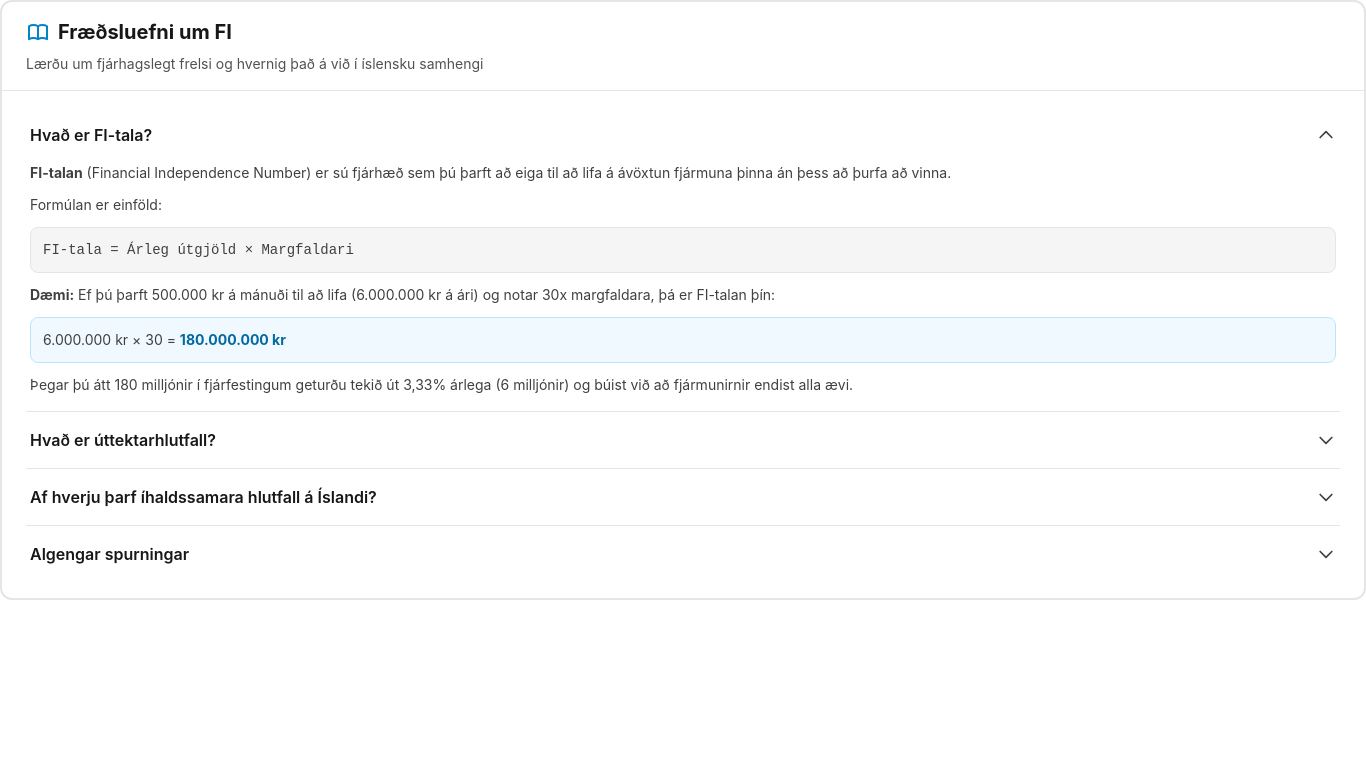
EducationalPanel › Collapsible Sections › collapses expanded section when clicked again
This screenshot has width=1366, height=768.
Check: the text "Financial Independence Number" is shown, box [83, 164, 951, 181]
// Click to collapse
Click the button "Hvað er FI-tala?" at (91, 135), box [26, 107, 1340, 163]
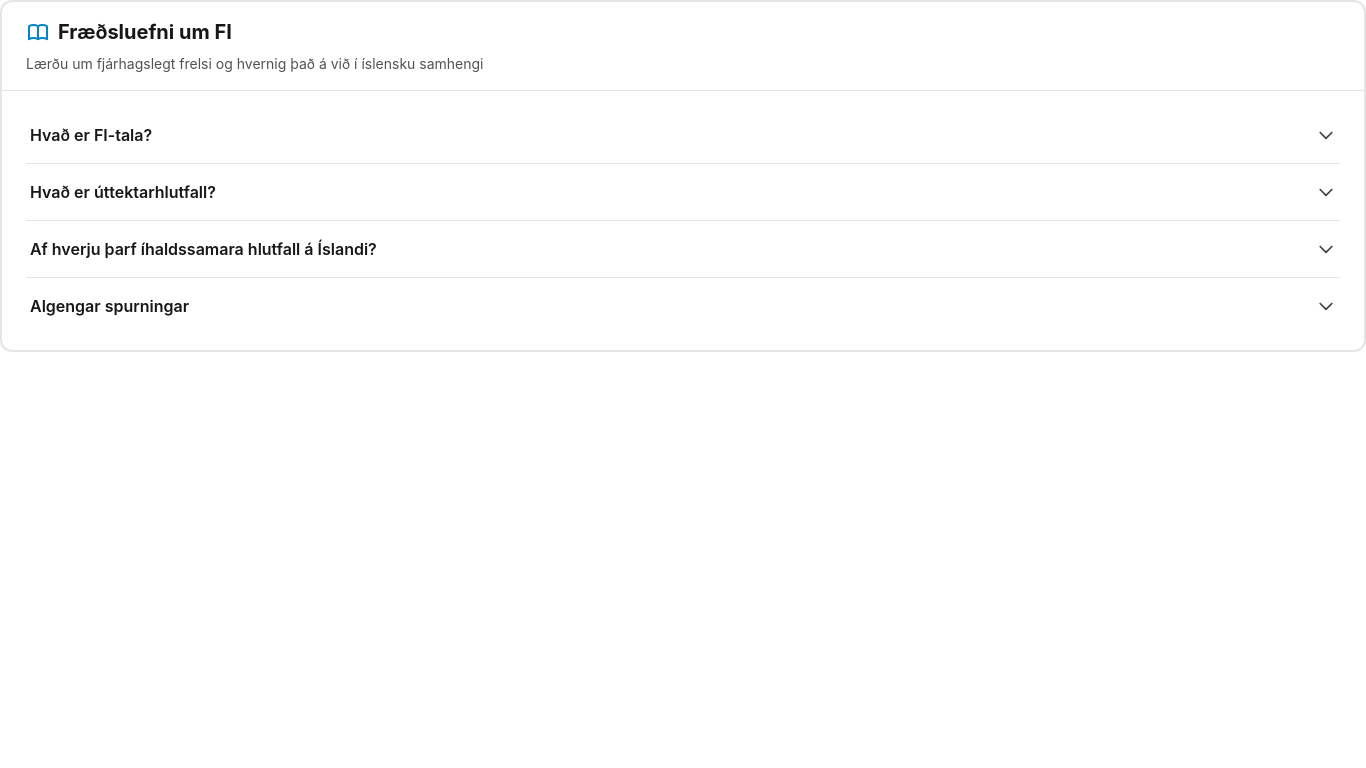
Check: the text "Financial Independence Number" is gone
